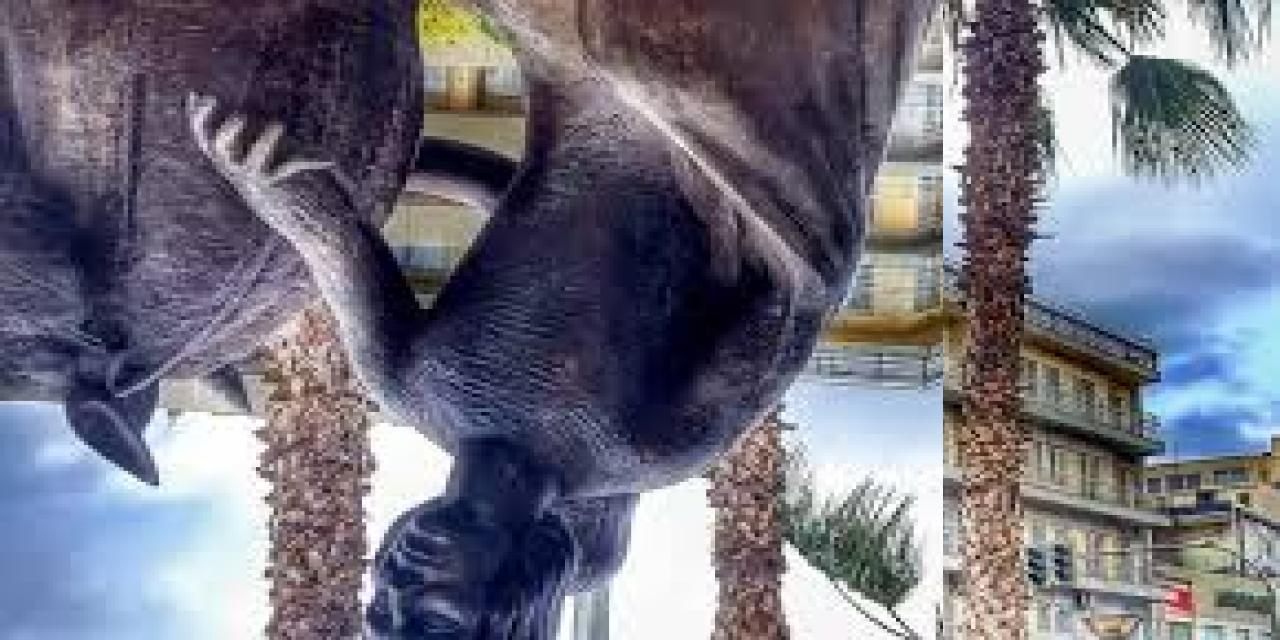Aretousa: (1, 1, 944, 640)
